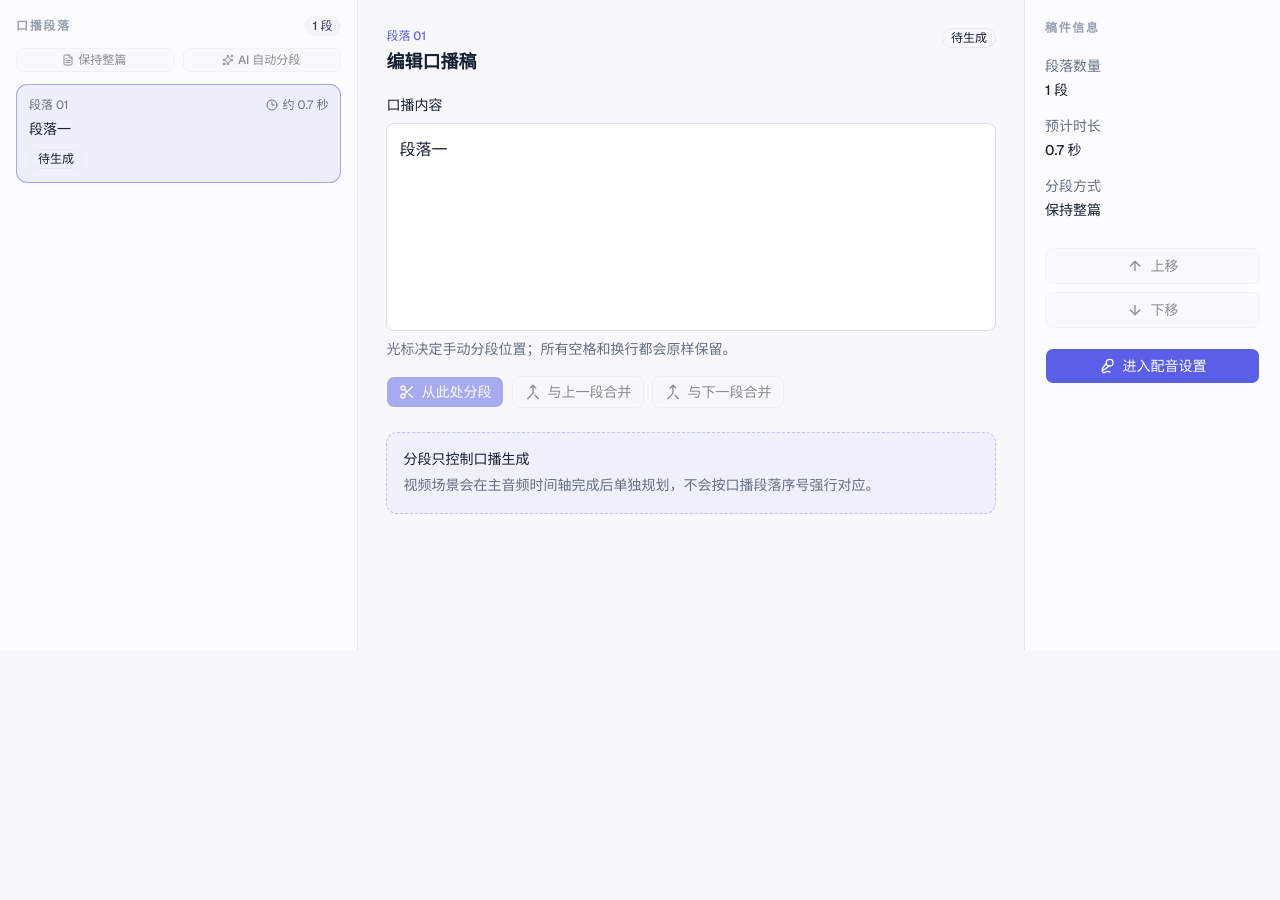
Test: ScriptStage › keeps the script stage actionable after a failed save
Click the button "进入配音设置".
click(1152, 366)  # box [1045,348,1260,384]
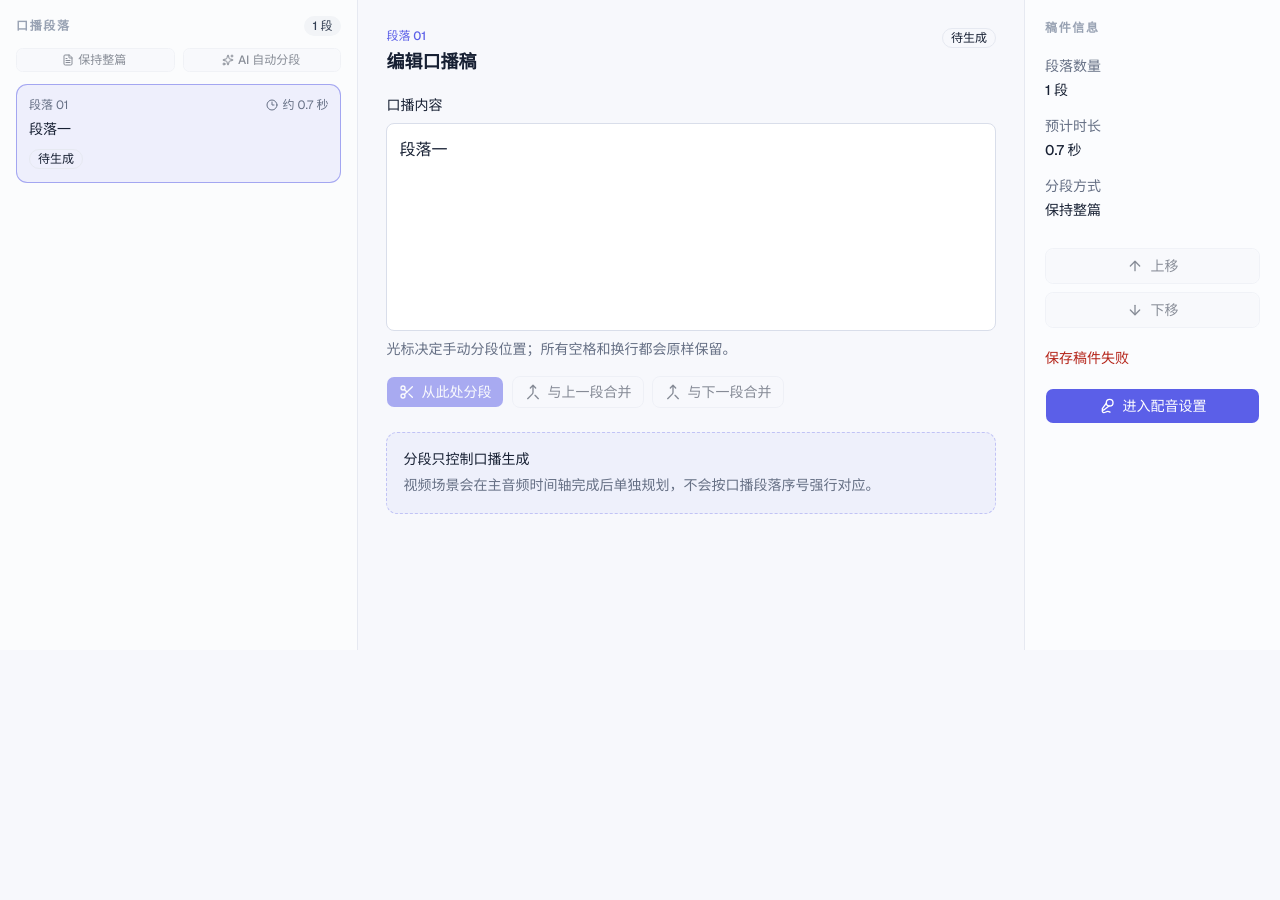
expect the button "进入配音设置" is enabled: met, box [1045,388,1260,424]
expect the message reads "保存稿件失败": met, box [1045,349,1129,367]
